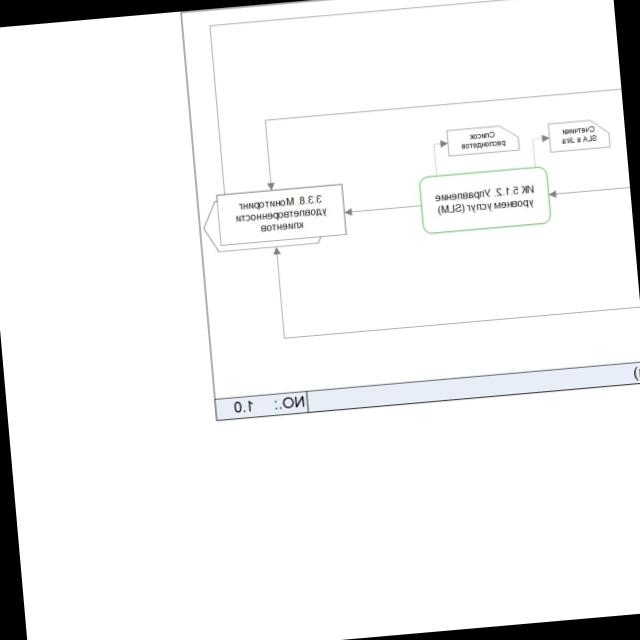arrow: (343, 198, 421, 218)
rectangle: (418, 164, 552, 234), (215, 182, 347, 246)
